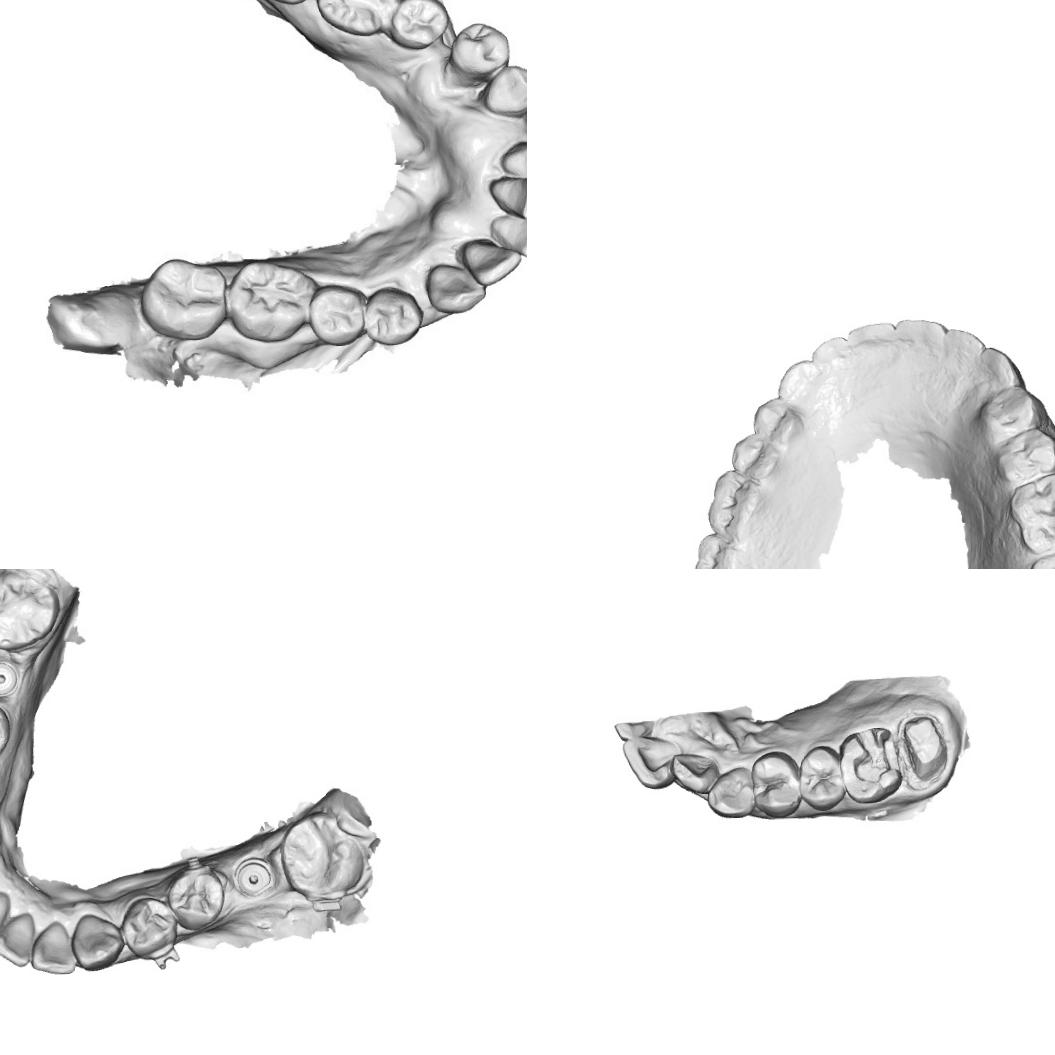canine: (68, 910, 126, 974), (425, 262, 488, 314), (706, 764, 756, 820), (774, 358, 827, 410), (977, 344, 1026, 390)
crown: (900, 712, 950, 784)
implant: (234, 856, 277, 896), (0, 657, 17, 700)
incisor: (621, 734, 687, 791), (28, 919, 80, 978), (461, 238, 522, 287), (0, 910, 39, 969), (670, 750, 720, 795), (844, 319, 898, 358), (894, 314, 948, 350), (942, 324, 986, 364), (489, 175, 527, 220), (490, 213, 527, 258), (810, 334, 848, 376), (498, 140, 527, 191), (0, 890, 12, 946)
inlay: (850, 727, 900, 790)
molar: (278, 808, 367, 903), (137, 256, 230, 344), (228, 257, 320, 344), (0, 569, 60, 651), (701, 466, 767, 534), (1006, 471, 1055, 558), (313, 0, 401, 38), (689, 530, 754, 569)
premolar: (974, 380, 1051, 444), (446, 21, 512, 86), (992, 424, 1055, 488), (166, 866, 226, 933), (362, 284, 425, 347), (307, 281, 367, 347), (119, 894, 178, 960), (749, 750, 804, 820), (797, 743, 848, 812), (386, 0, 450, 51), (750, 396, 807, 448), (728, 431, 781, 481), (480, 63, 527, 119)
